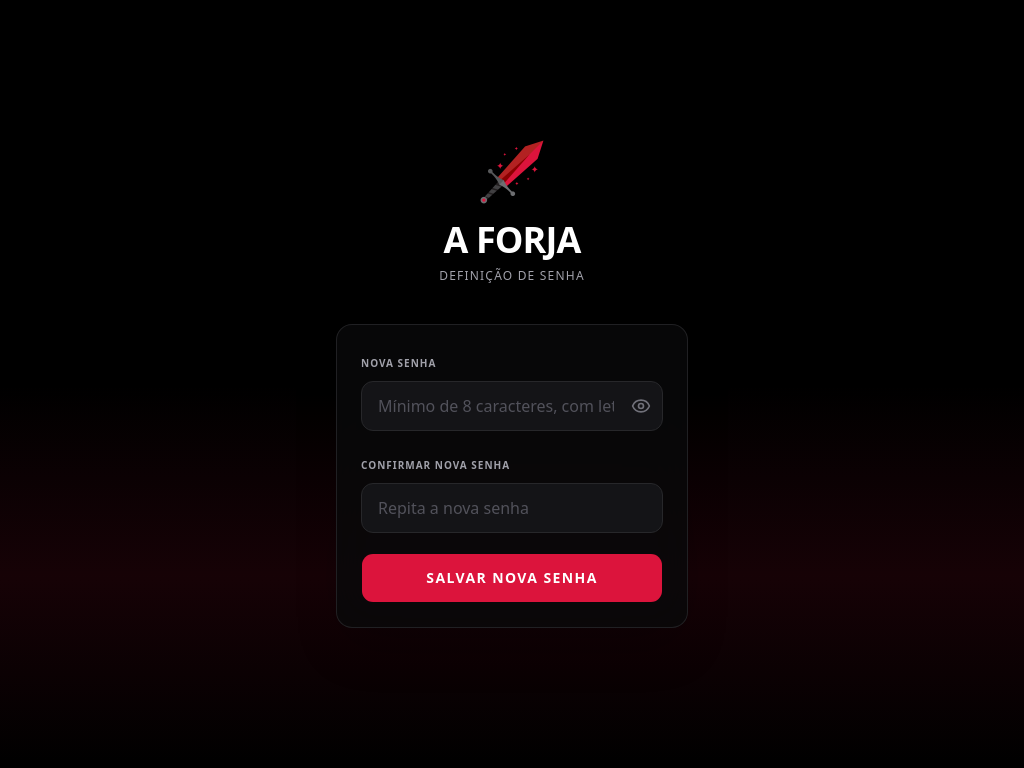
Test: SetPassword Page › 3. senha com menos de oito caracteres é rejeitada
This screenshot has width=1024, height=768.
Step 1. Type "Pass1!" into the password field labelled "Nova Senha" → (512, 406), box x1=361 y1=381 x2=663 y2=431
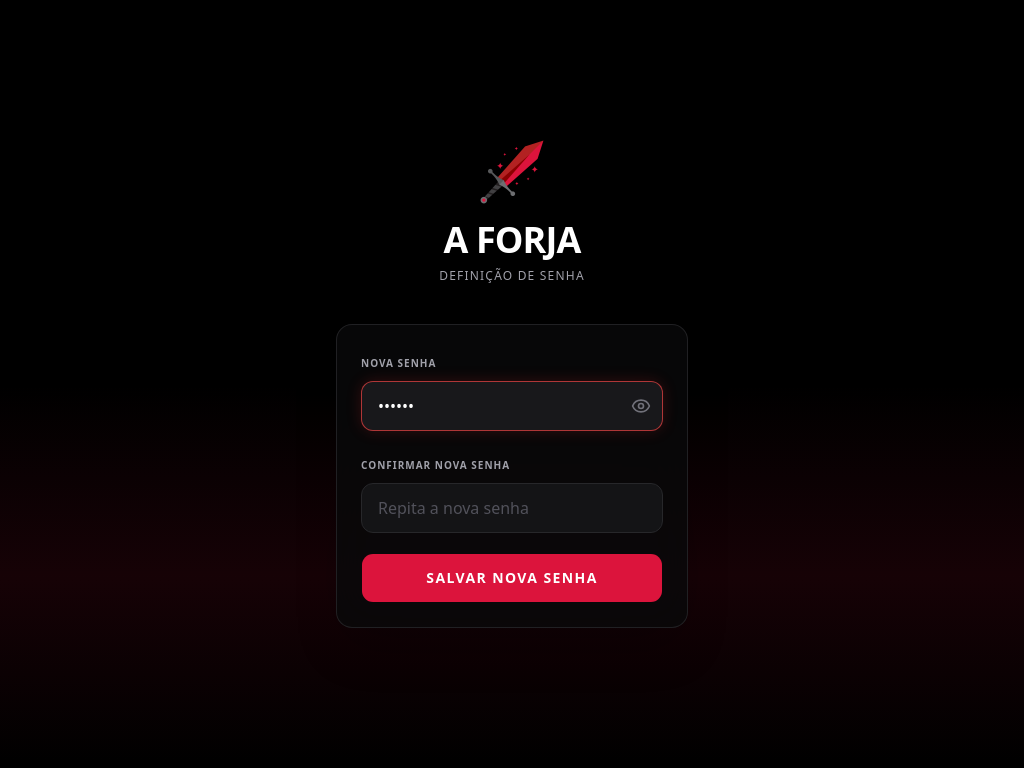
Step 2. Type "Pass1!" into the password field labelled "Confirmar Nova Senha" → (512, 508), box x1=361 y1=483 x2=663 y2=533
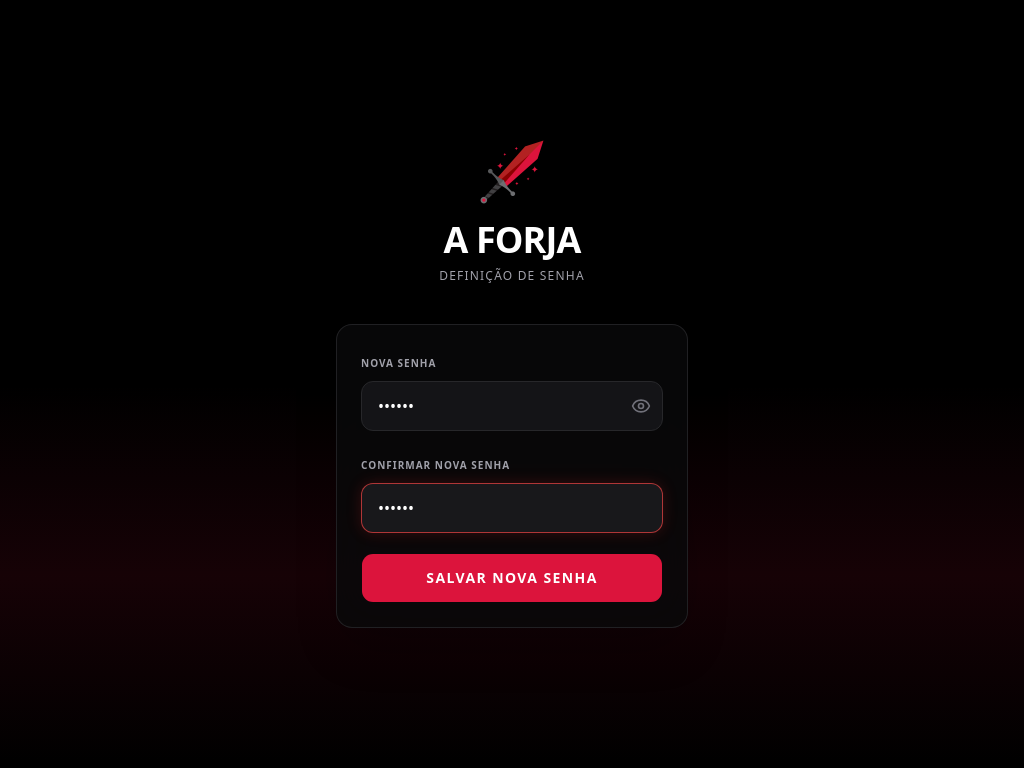
Step 3. Click the button "Salvar Nova Senha" → click(512, 578), box x1=361 y1=553 x2=663 y2=603
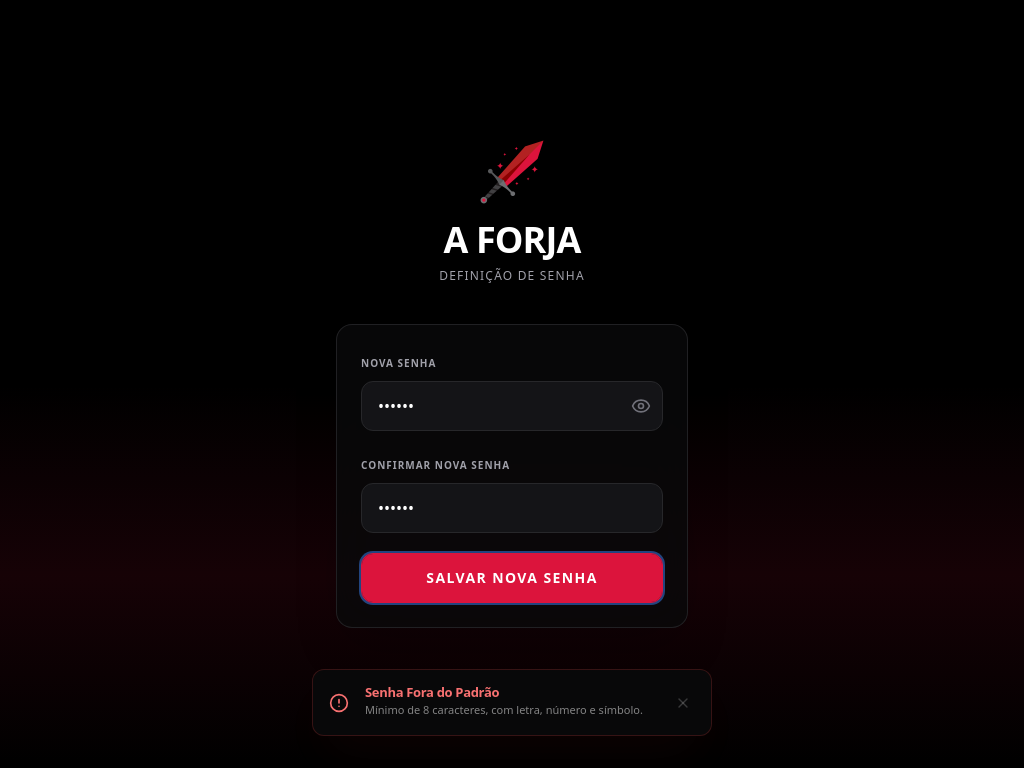
Result: the heading "Senha Fora do Padrão" is shown at x1=365 y1=686 x2=499 y2=701
